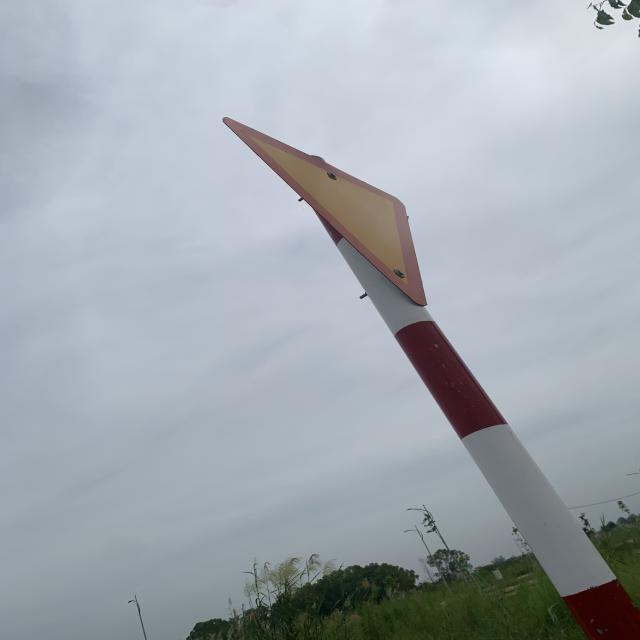Gioi_Han_Toc_Do_25: (223, 117, 429, 305)
